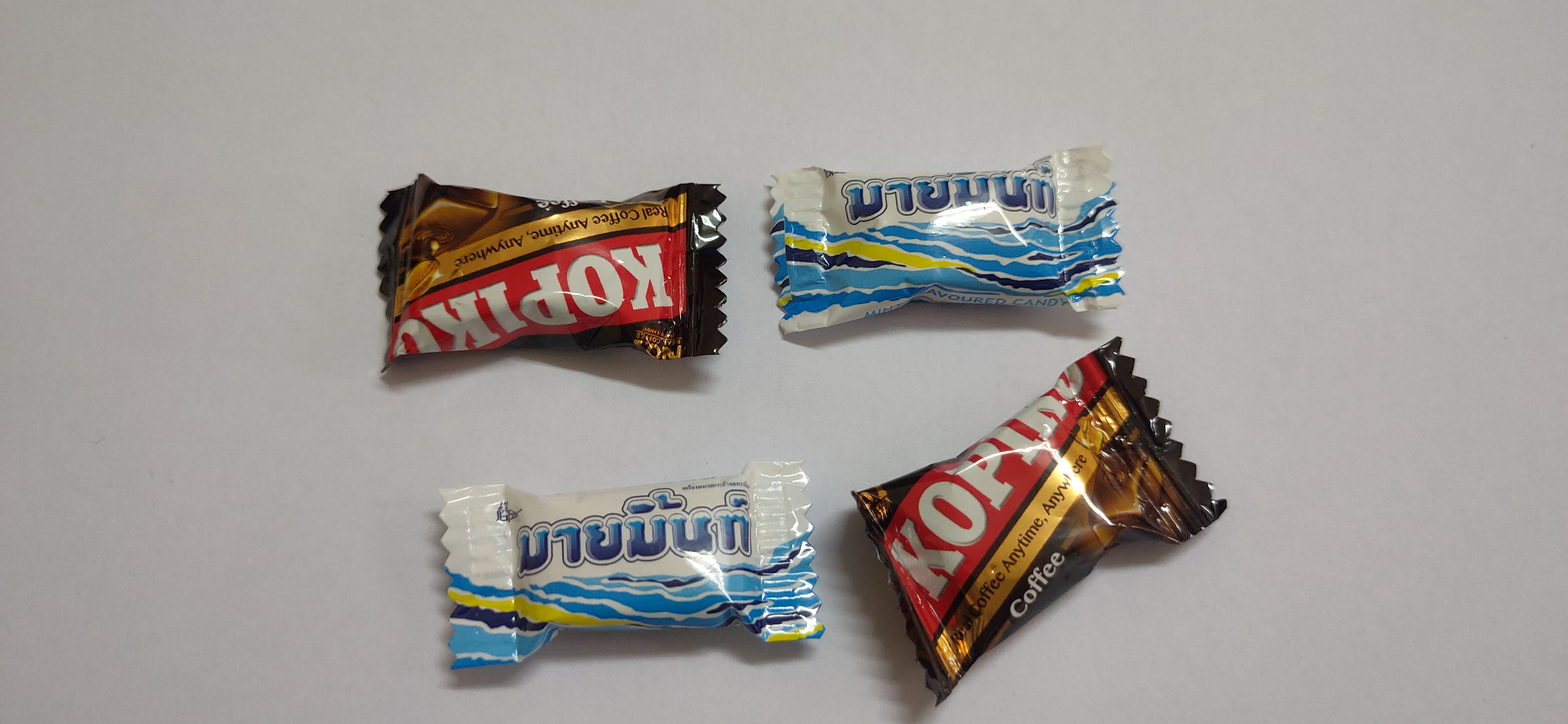plastic: (845, 315, 1280, 723), (409, 451, 850, 698), (744, 94, 1122, 380), (371, 138, 736, 399)
